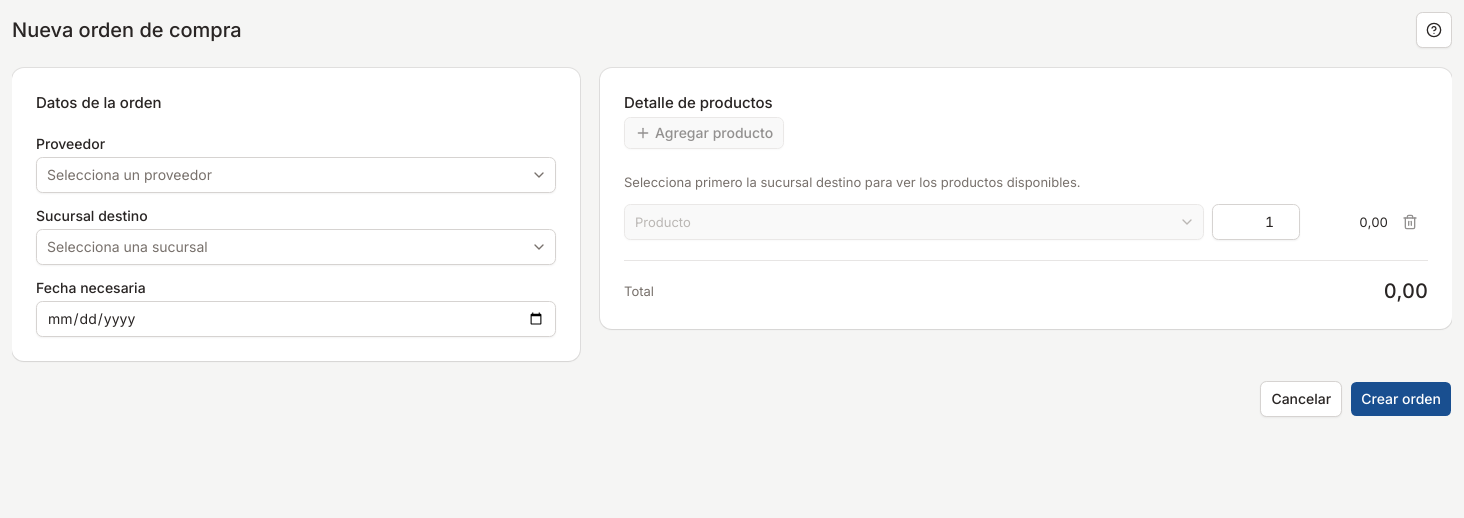
precio negociado en el formulario › con un proveedor sin margen (0% y 0%) no hay lápiz para editar el precio
The image size is (1464, 518).
Click the dropdown labelled "proveedor".
click(129, 175)  # box [36, 157, 556, 193]
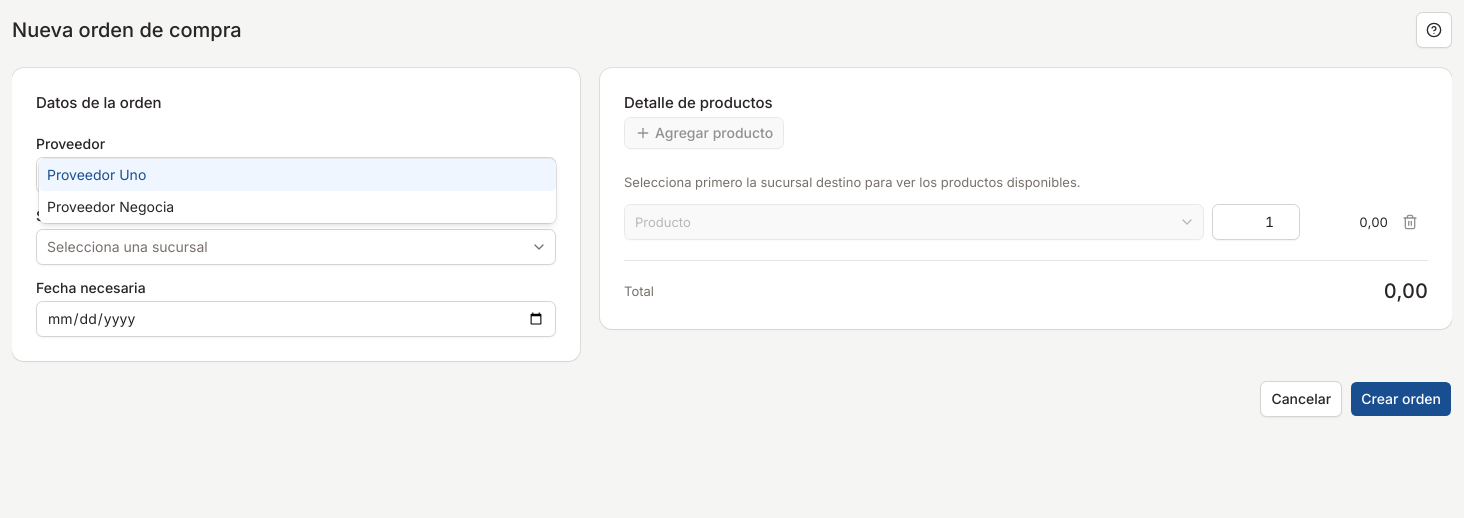
Click the option "Proveedor Uno".
click(97, 175)  # box [39, 159, 556, 191]
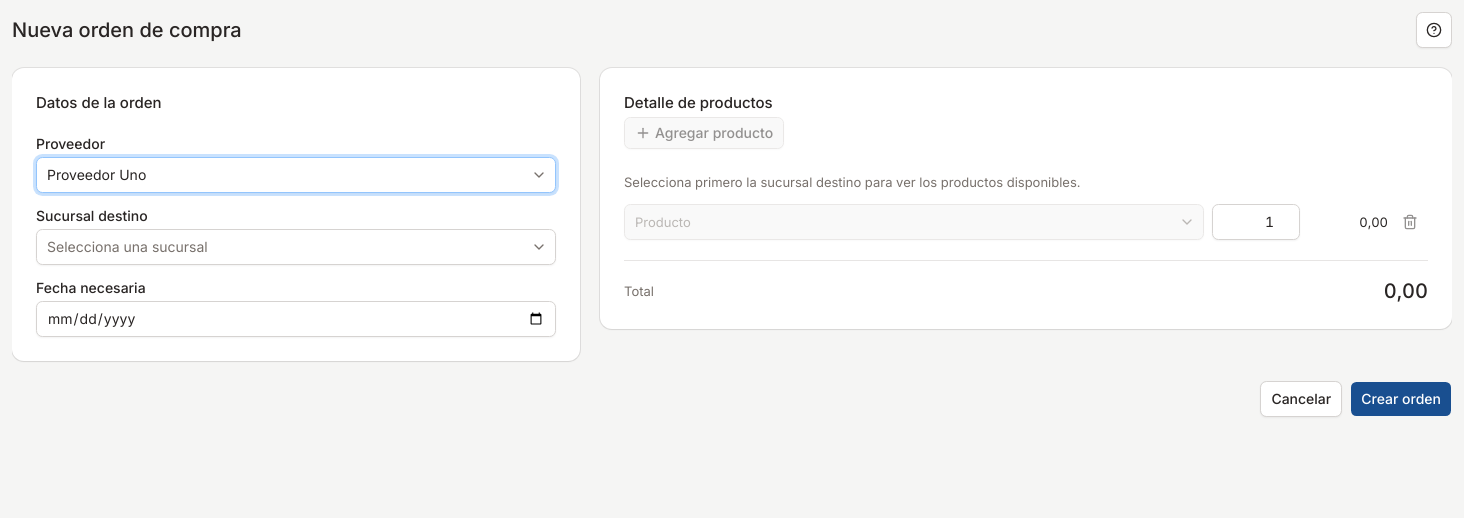
Click the dropdown named "Sucursal destino".
click(127, 247)  # box [36, 229, 556, 265]
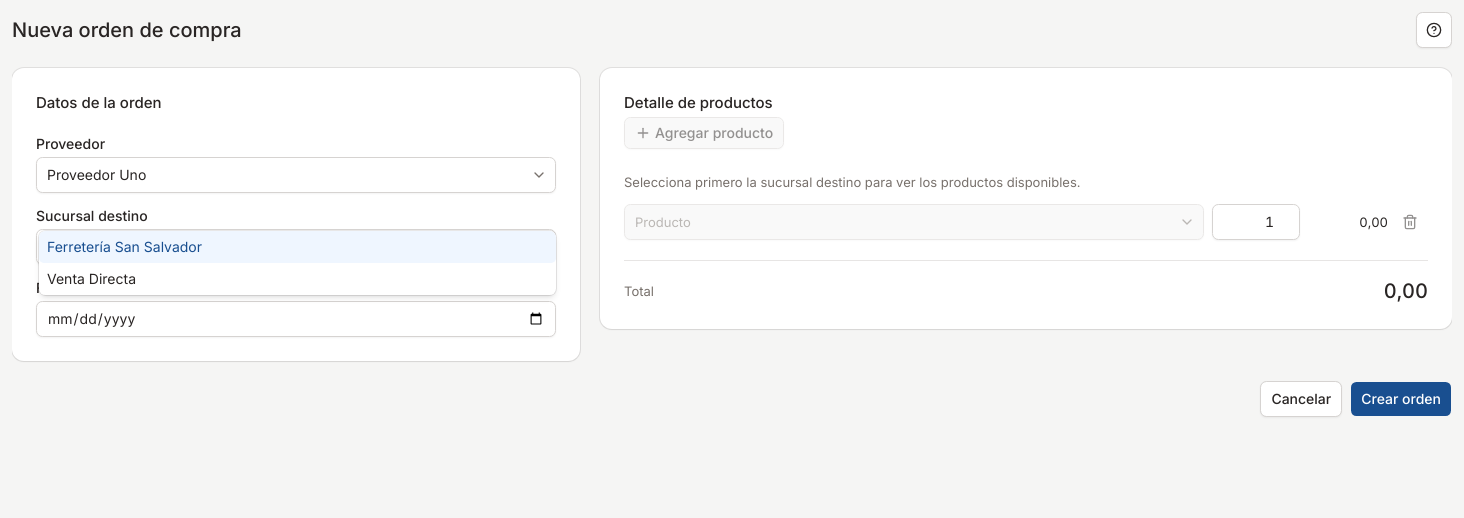
Click the option "Ferretería San Salvador".
click(125, 247)  # box [39, 231, 556, 263]
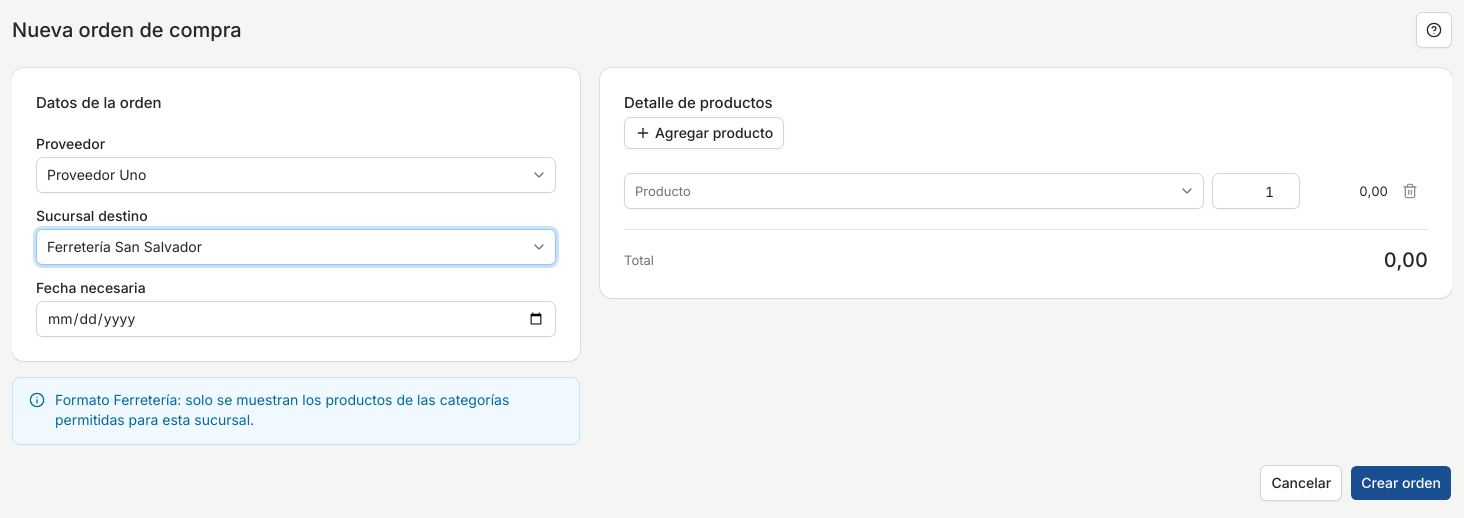
Click the dropdown named "Producto 1".
click(663, 191)  # box [624, 173, 1204, 209]
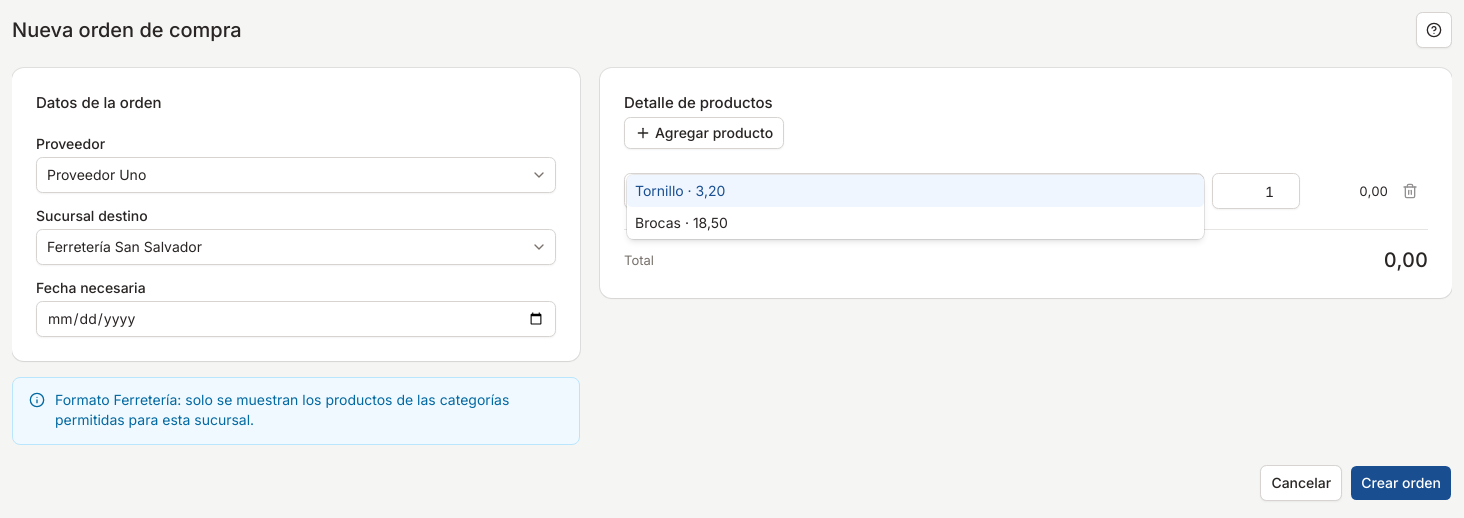
Click the option "Tornillo · 3,20".
click(659, 191)  # box [627, 175, 1204, 207]
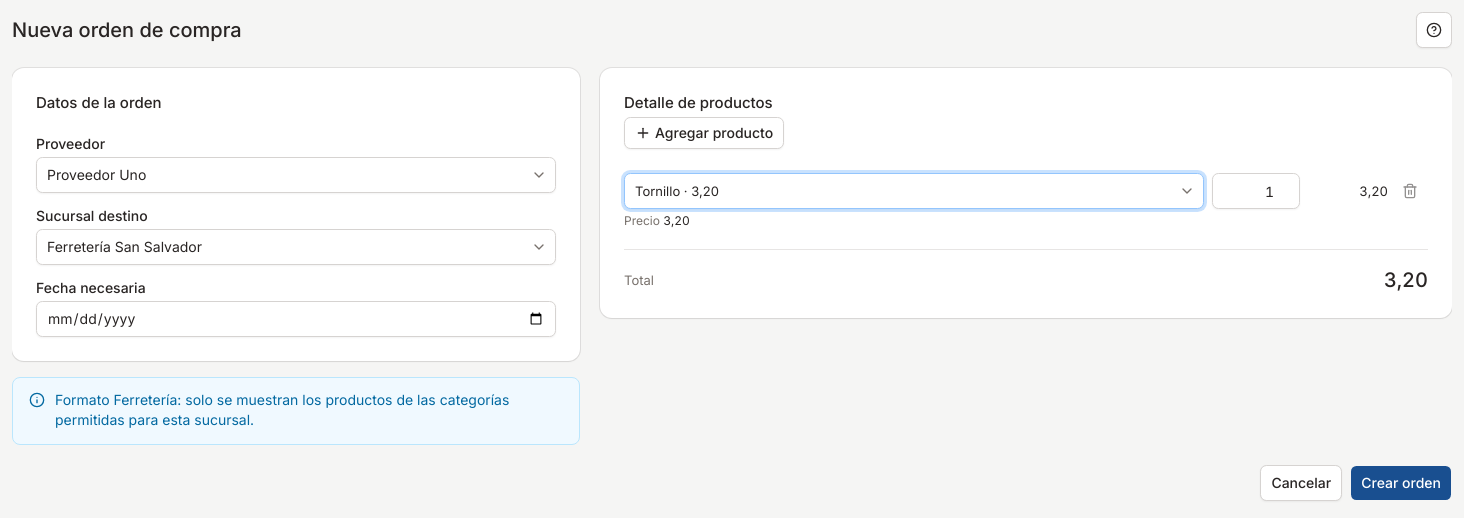
Expected: the text "Precio" is shown, [624, 213, 663, 228]
